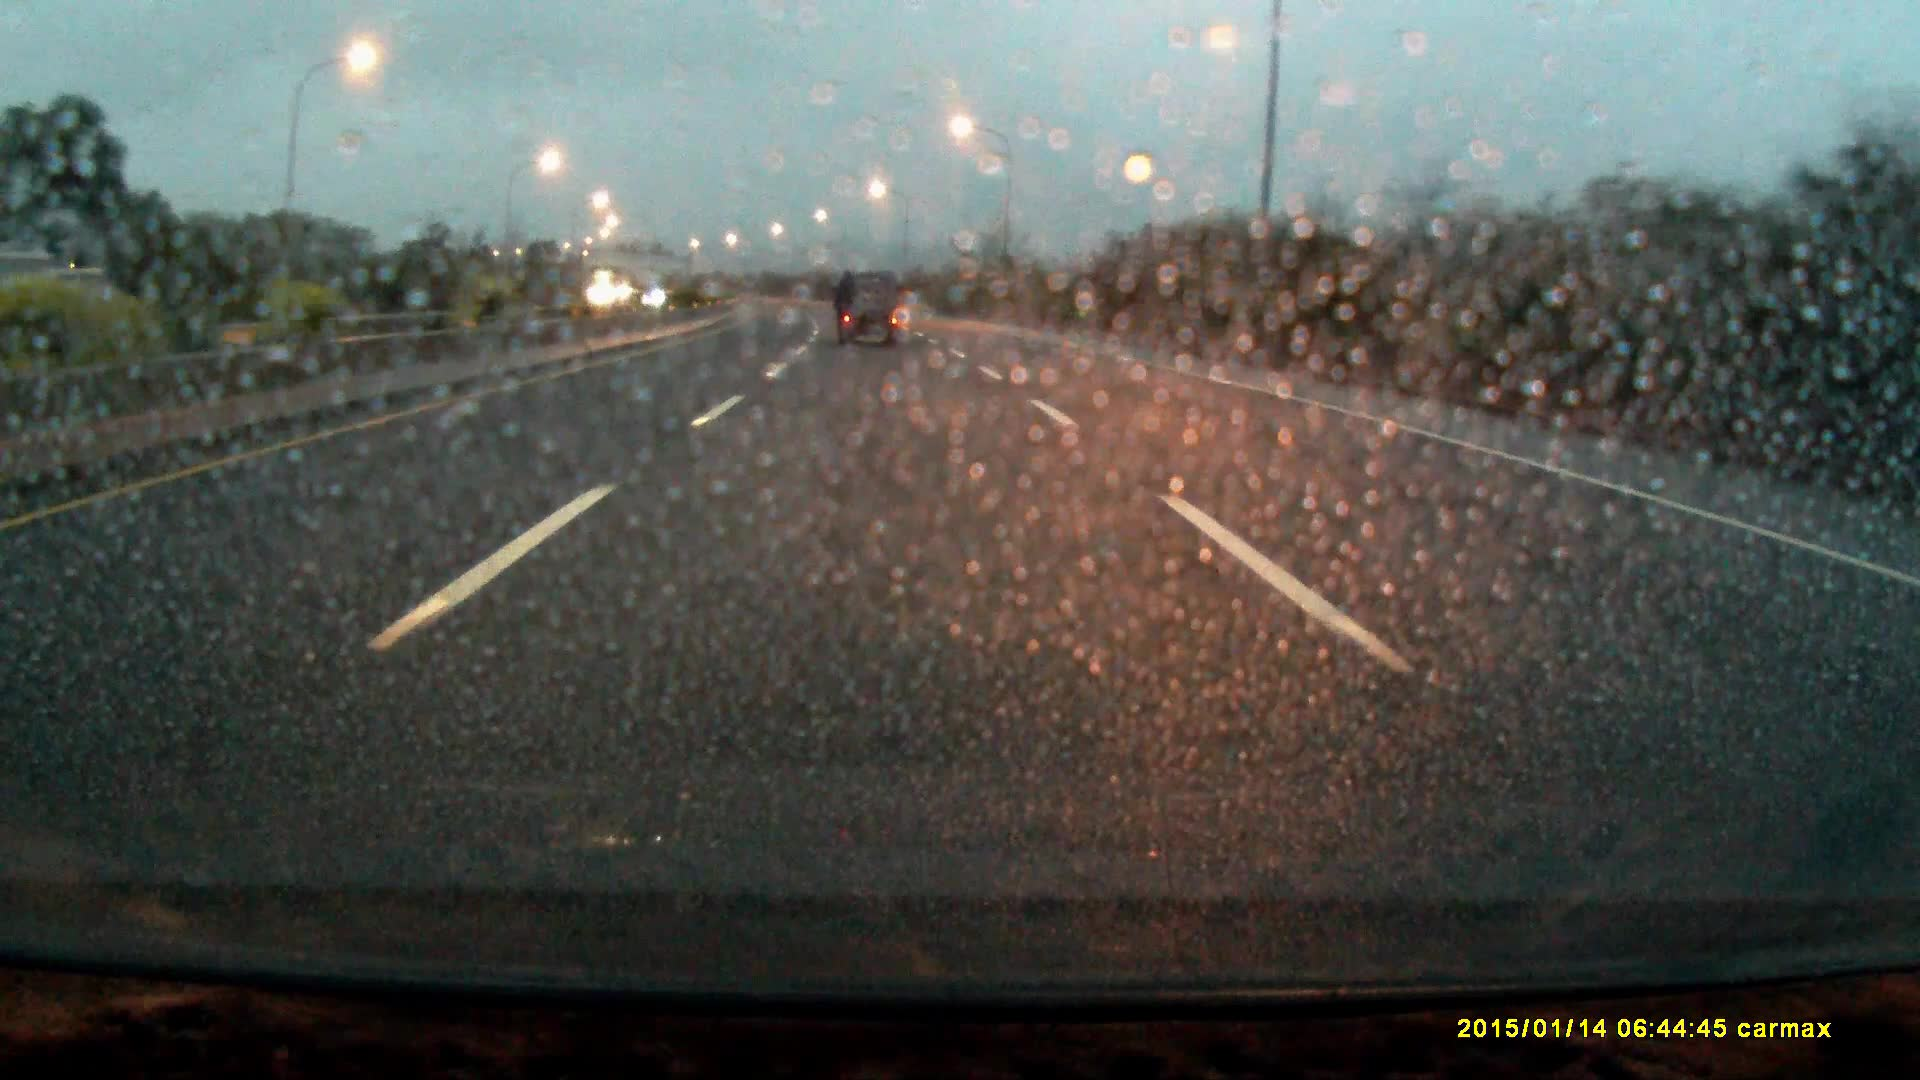vehicle: (833, 276, 905, 355)
